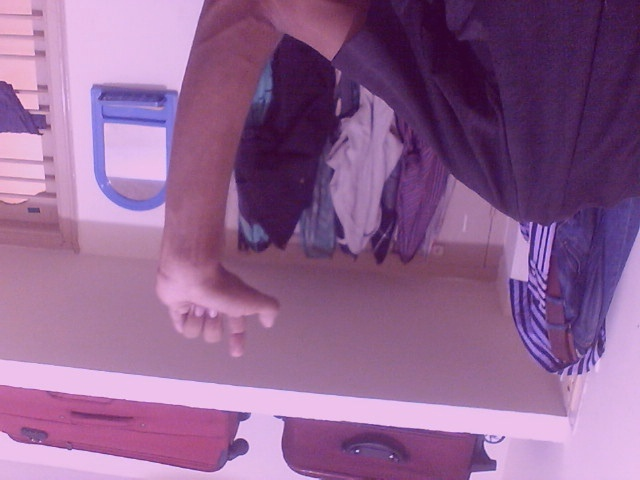hand: (150, 254, 283, 362)
